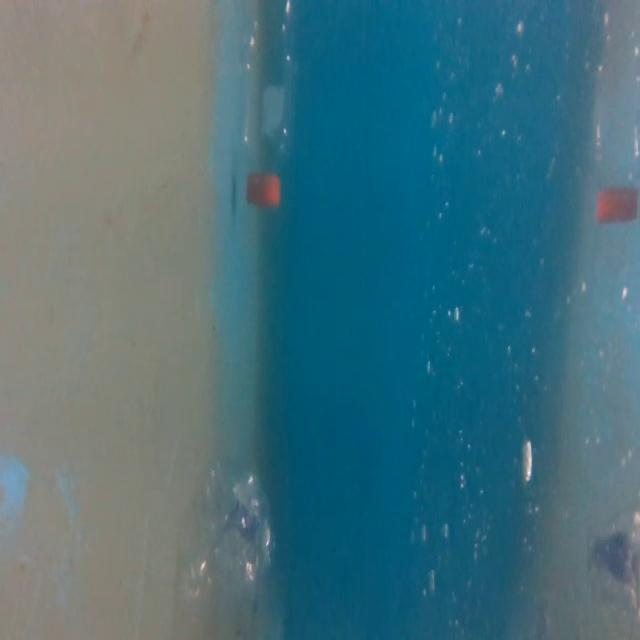plastic bags: (172, 448, 281, 605)
plastic bottle: (238, 0, 305, 211)
